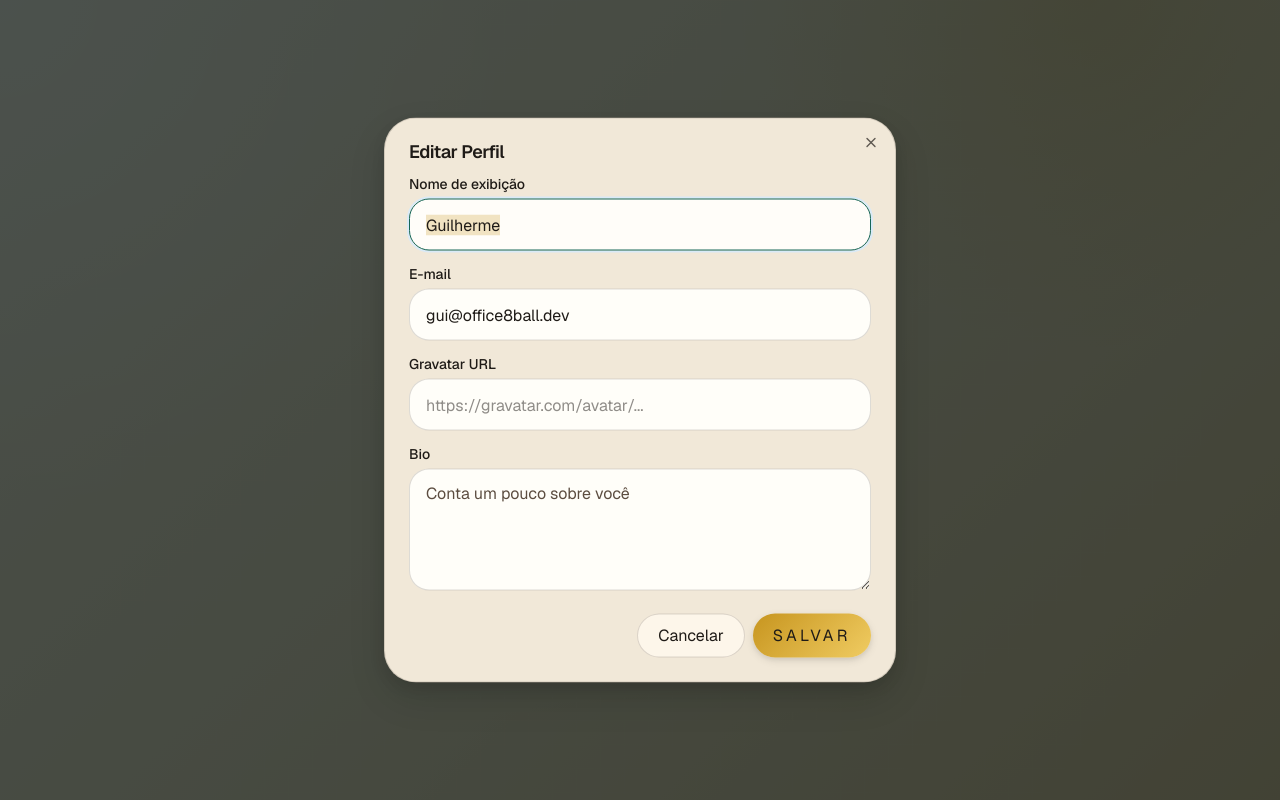
Test: ProfileEditDialog › shows validation error when avatarUrl is invalid
The width and height of the screenshot is (1280, 800).
Type "not-a-url" into the field with placeholder "https://gravatar.com/avatar/...". click: coordinates (640, 404)
box: left=409, top=378, right=871, bottom=430
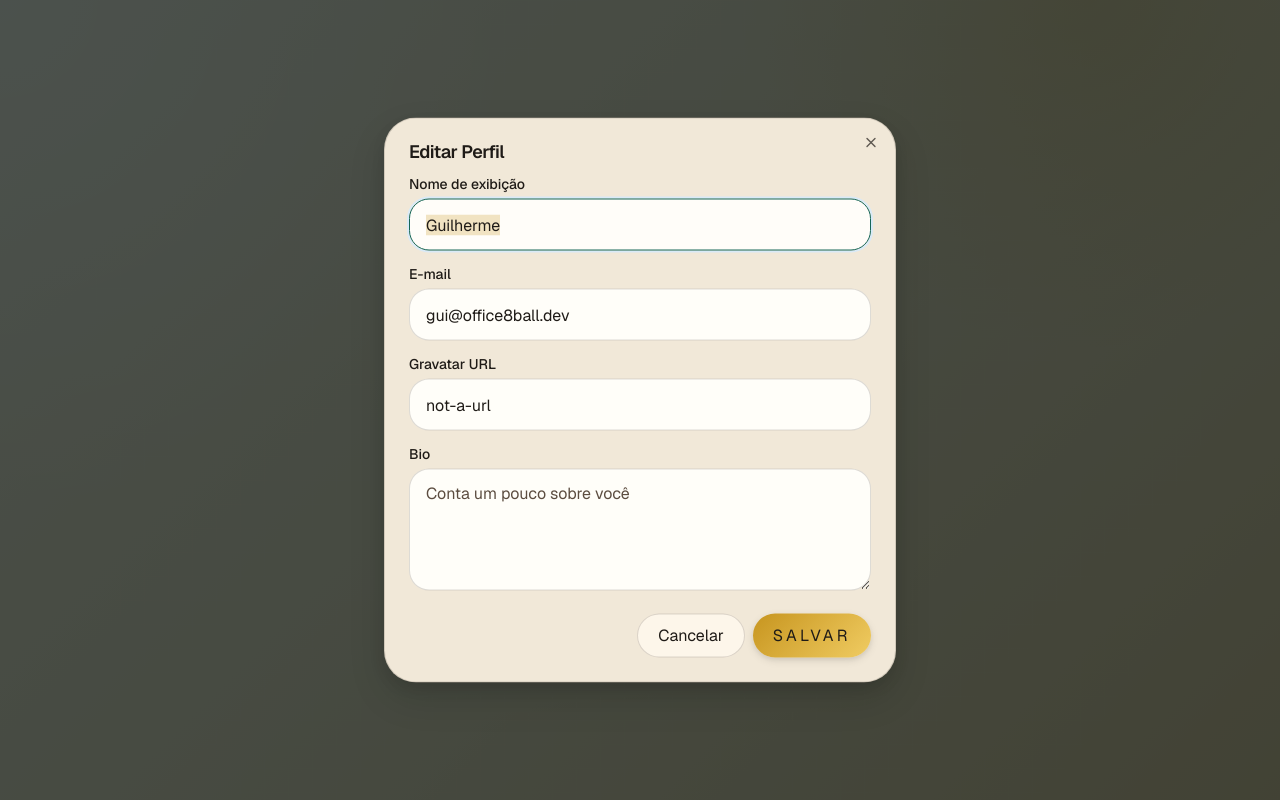
Click the button "Salvar". click: coordinates (812, 636)
box: left=753, top=614, right=871, bottom=658
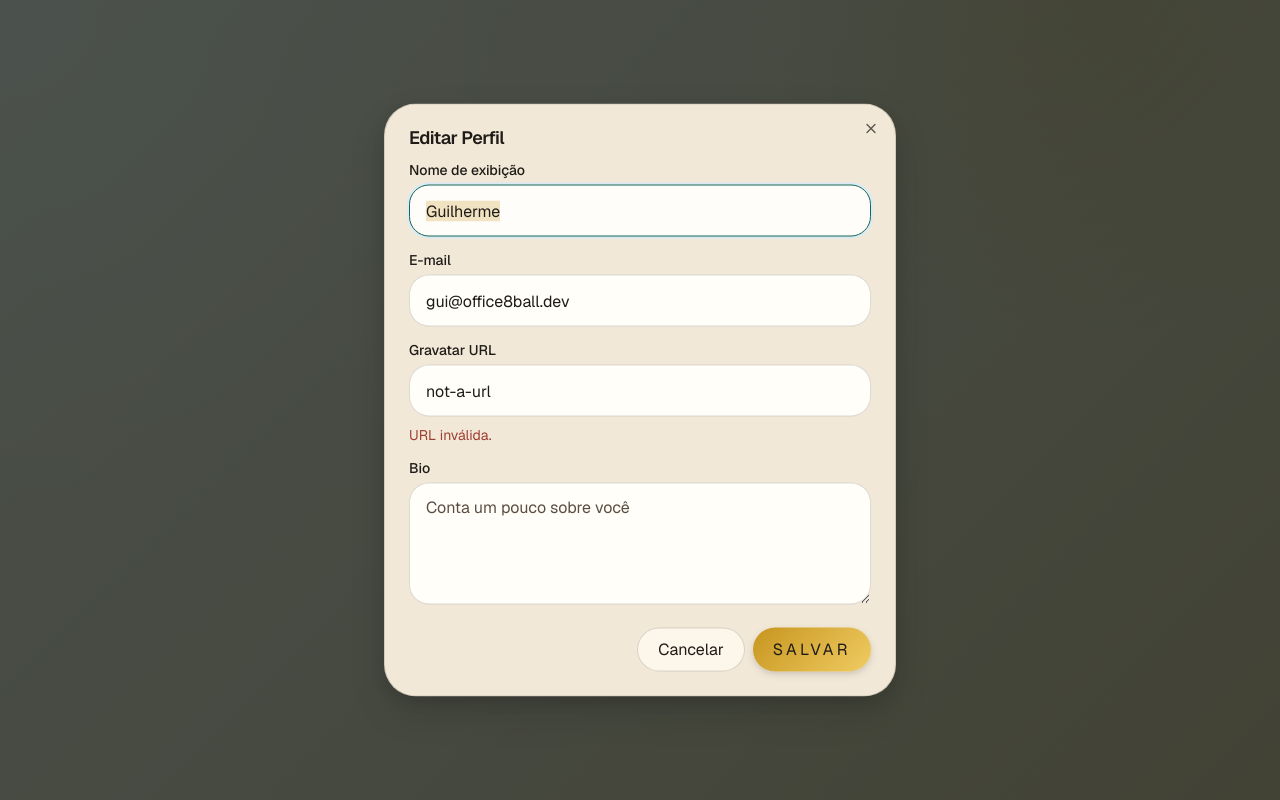
Expected: the text "URL inválida." is shown, left=409, top=426, right=492, bottom=444
